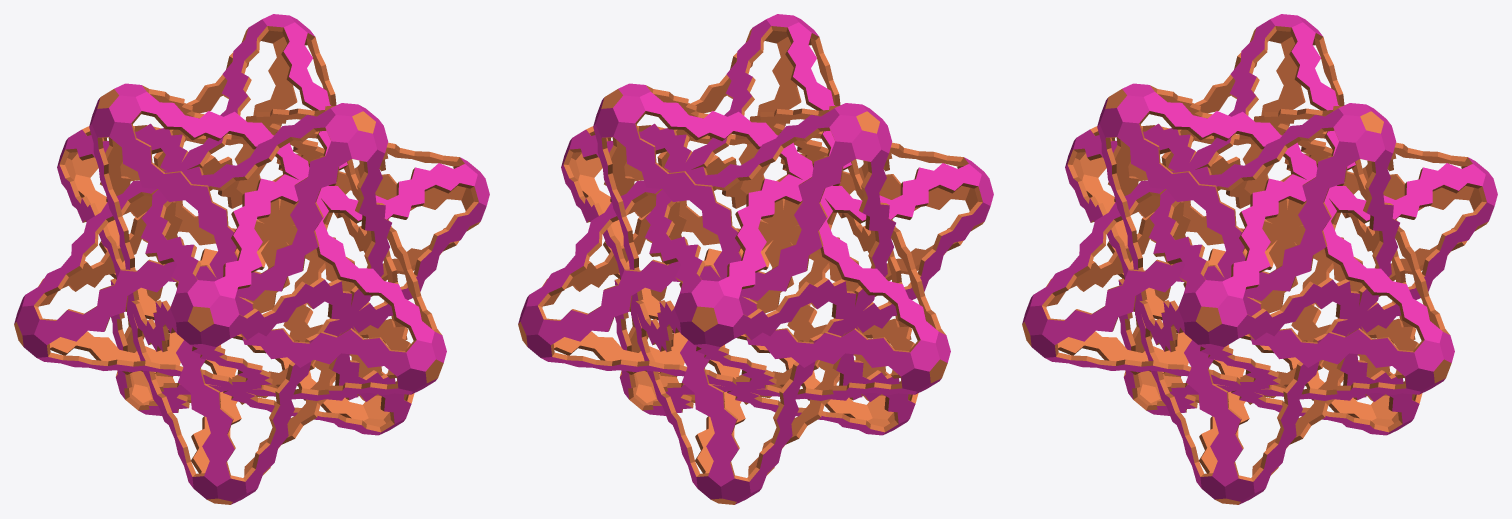
File: StarDodecahedronPolyknot1.glb
The picture shows the model from 3 angles, left to right: view 1: azimuth 30°, elevation 25°; view 2: azimuth 150°, elevation 25°; view 3: azimuth 270°, elevation 25°; orthographic projection.
Visible parts, largest first — view 1: 3D_ESCHER_11_D_POLYKNOT_42Augmented_Penta_Prism; view 2: 3D_ESCHER_11_D_POLYKNOT_42Augmented_Penta_Prism; view 3: 3D_ESCHER_11_D_POLYKNOT_42Augmented_Penta_Prism.
Boxes of the visible parts, x1,y1,x2,y2 form: 3D_ESCHER_11_D_POLYKNOT_42Augmented_Penta_Prism: [14, 14, 489, 504]; 3D_ESCHER_11_D_POLYKNOT_42Augmented_Penta_Prism: [518, 14, 993, 504]; 3D_ESCHER_11_D_POLYKNOT_42Augmented_Penta_Prism: [1022, 14, 1497, 504].
Size of the model in its own units: 97.53 by 82.27 by 95.41.
